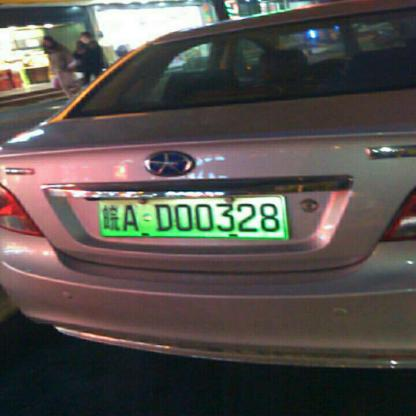lp: (99, 196, 285, 236)
